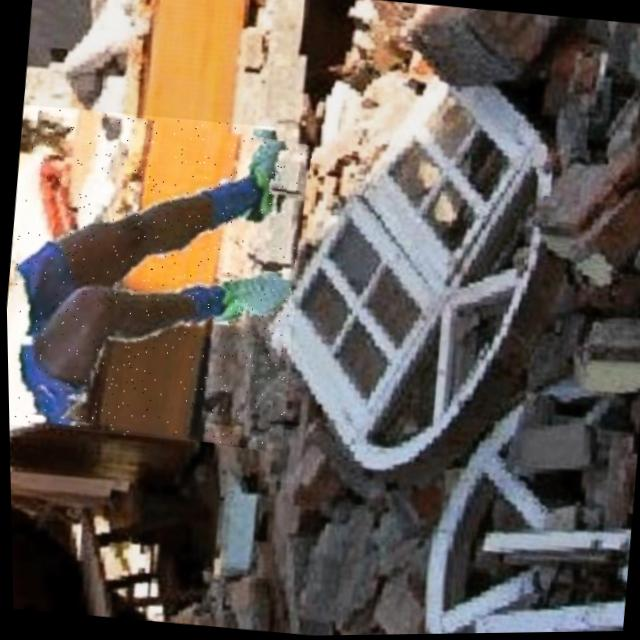Person in Rubble: (2, 99, 313, 451)
